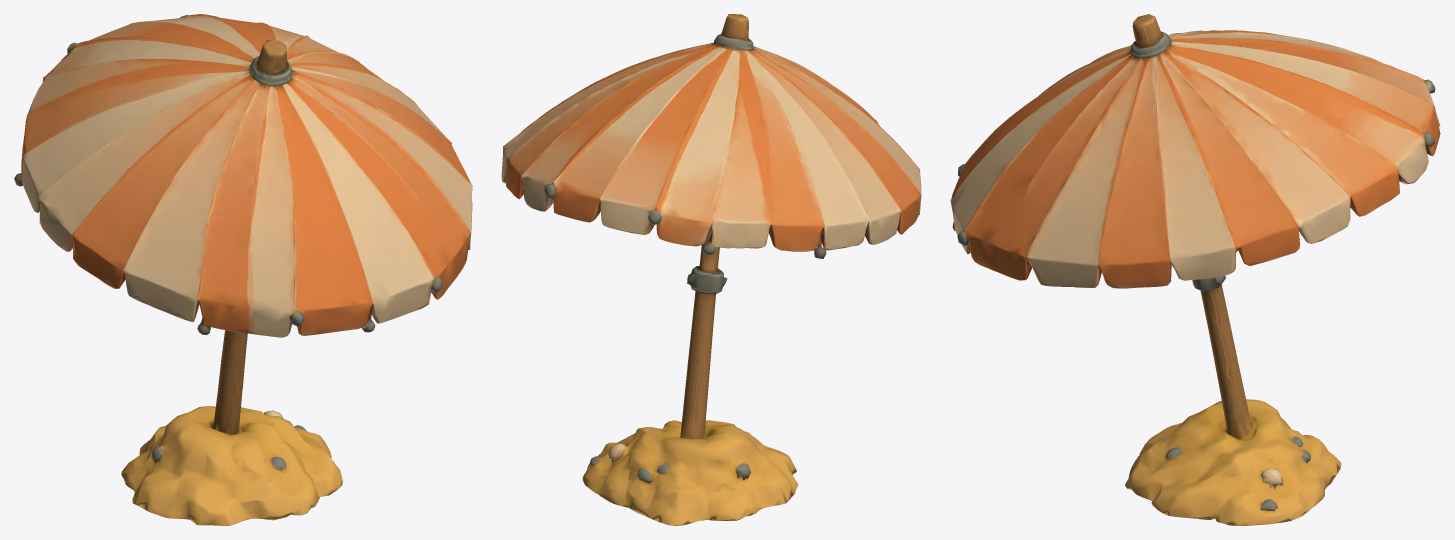
Rendered from sombrilla.glb.
3 views of the same model, side by side, from view 1: azimuth 30°, elevation 25°; view 2: azimuth 150°, elevation 25°; view 3: azimuth 270°, elevation 25° (orthographic). The views are drawn at different scales.
Visible parts, largest first — view 1: tripo_node_df3d45d5-fafd-49ef-aa4e-e11b4d4ec5d2; view 2: tripo_node_df3d45d5-fafd-49ef-aa4e-e11b4d4ec5d2; view 3: tripo_node_df3d45d5-fafd-49ef-aa4e-e11b4d4ec5d2.
Boxes of the visible parts, left/top/right/bottom form: tripo_node_df3d45d5-fafd-49ef-aa4e-e11b4d4ec5d2: left=14, top=14, right=472, bottom=525; tripo_node_df3d45d5-fafd-49ef-aa4e-e11b4d4ec5d2: left=501, top=14, right=921, bottom=525; tripo_node_df3d45d5-fafd-49ef-aa4e-e11b4d4ec5d2: left=950, top=14, right=1440, bottom=525.
Size of the model in its own units: 0.8481 by 1 by 0.9631.
1 material, 1 textured.
